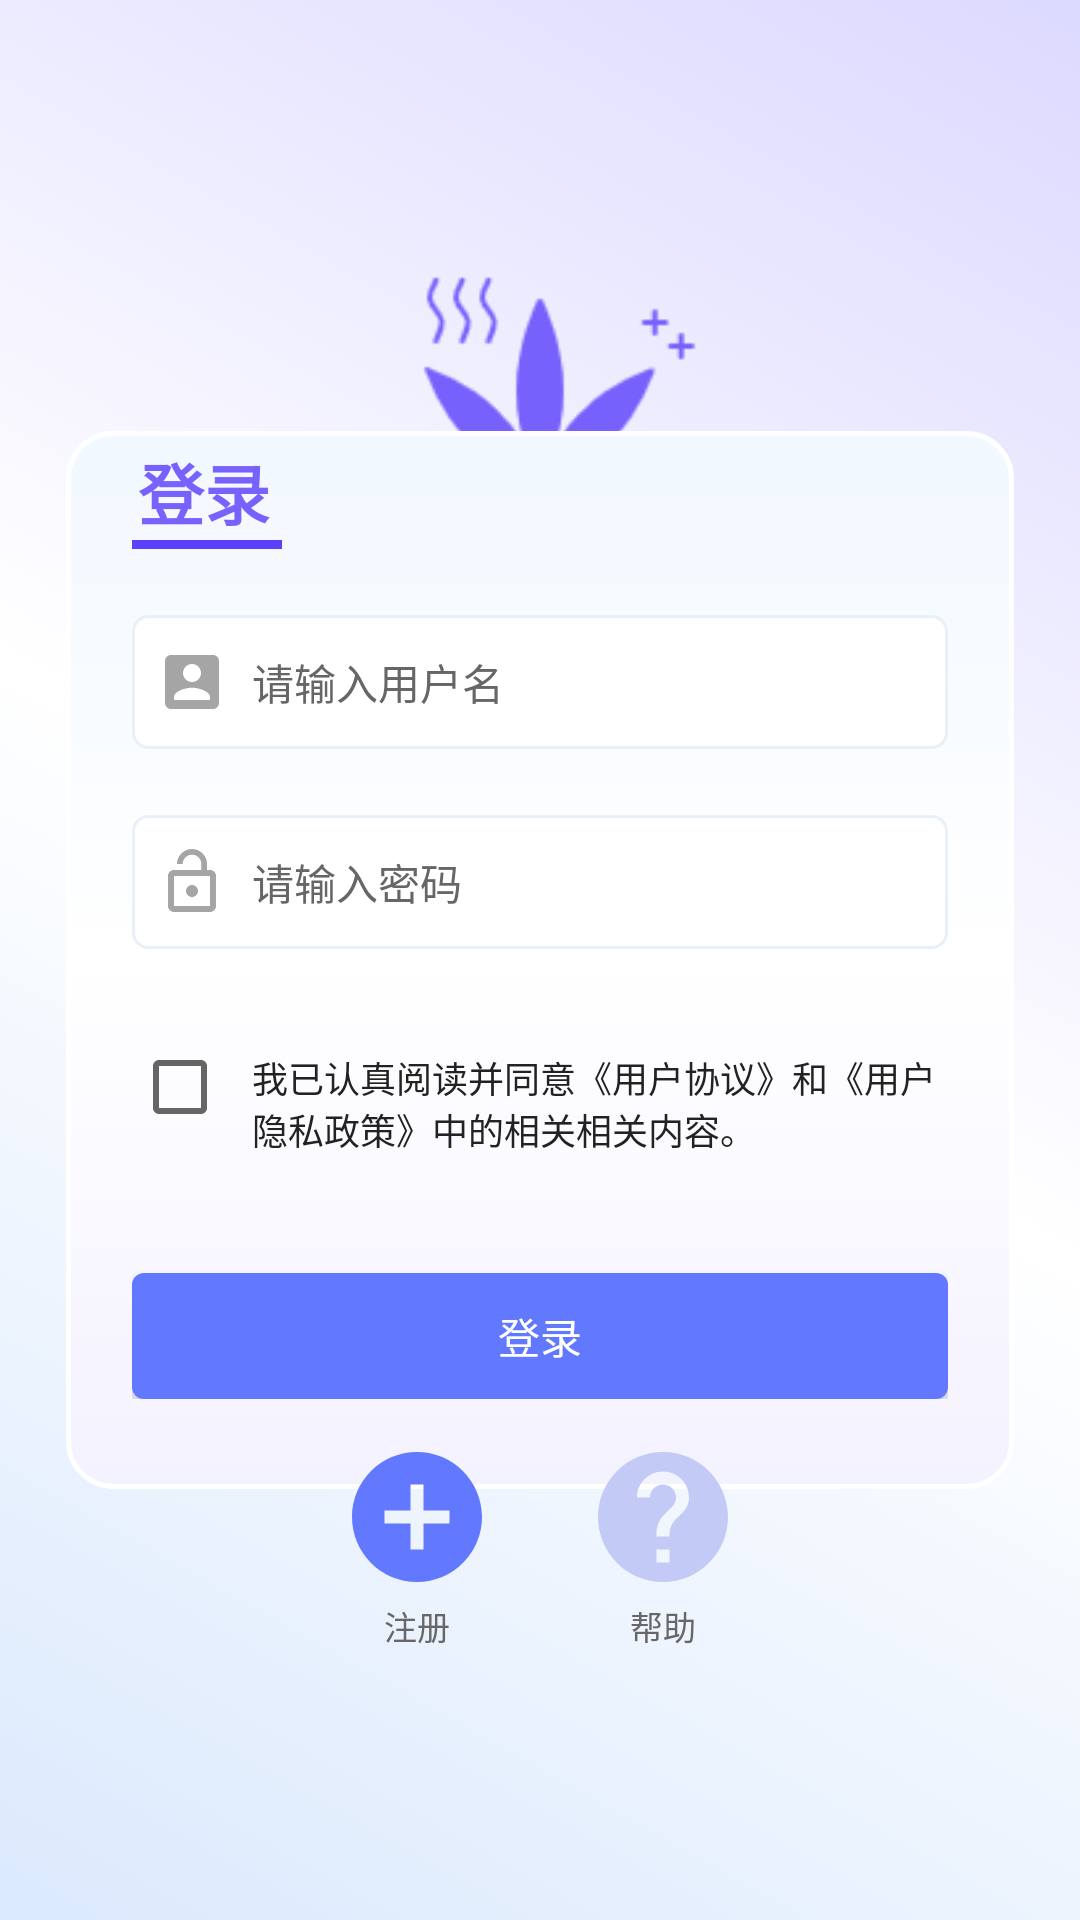

Point at icon controls on the screen. Image size 1080 x 1920, points as point (x, y).
account box: point (192, 682)
add circle: point (417, 1517)
herb: point (540, 353)
lock open: point (192, 880)
